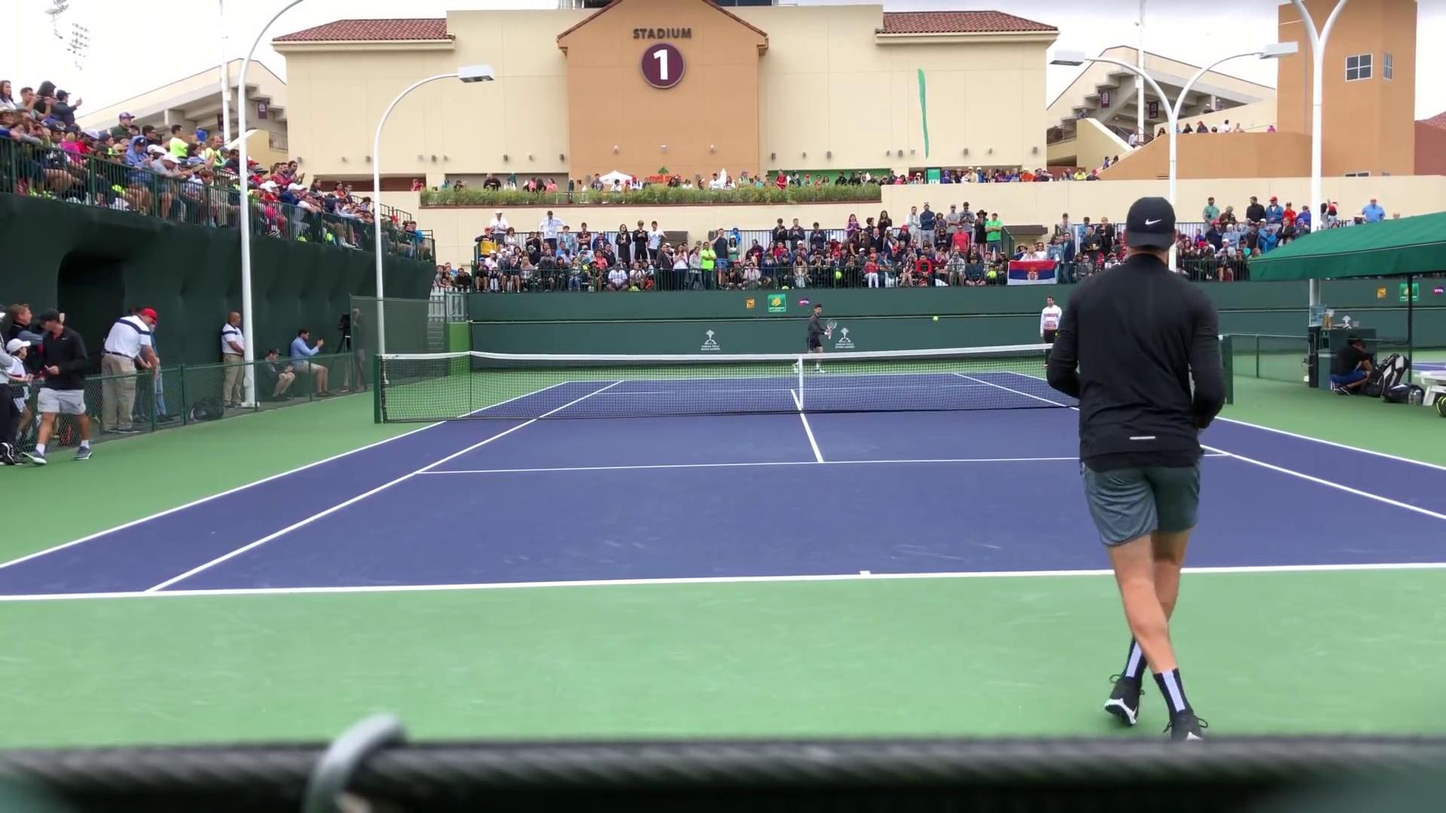ball: (932, 315, 939, 322)
